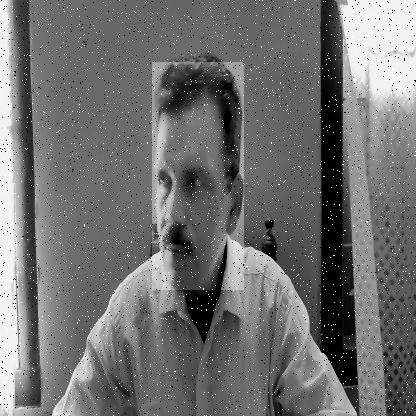Distracted: (152, 62, 244, 290)
